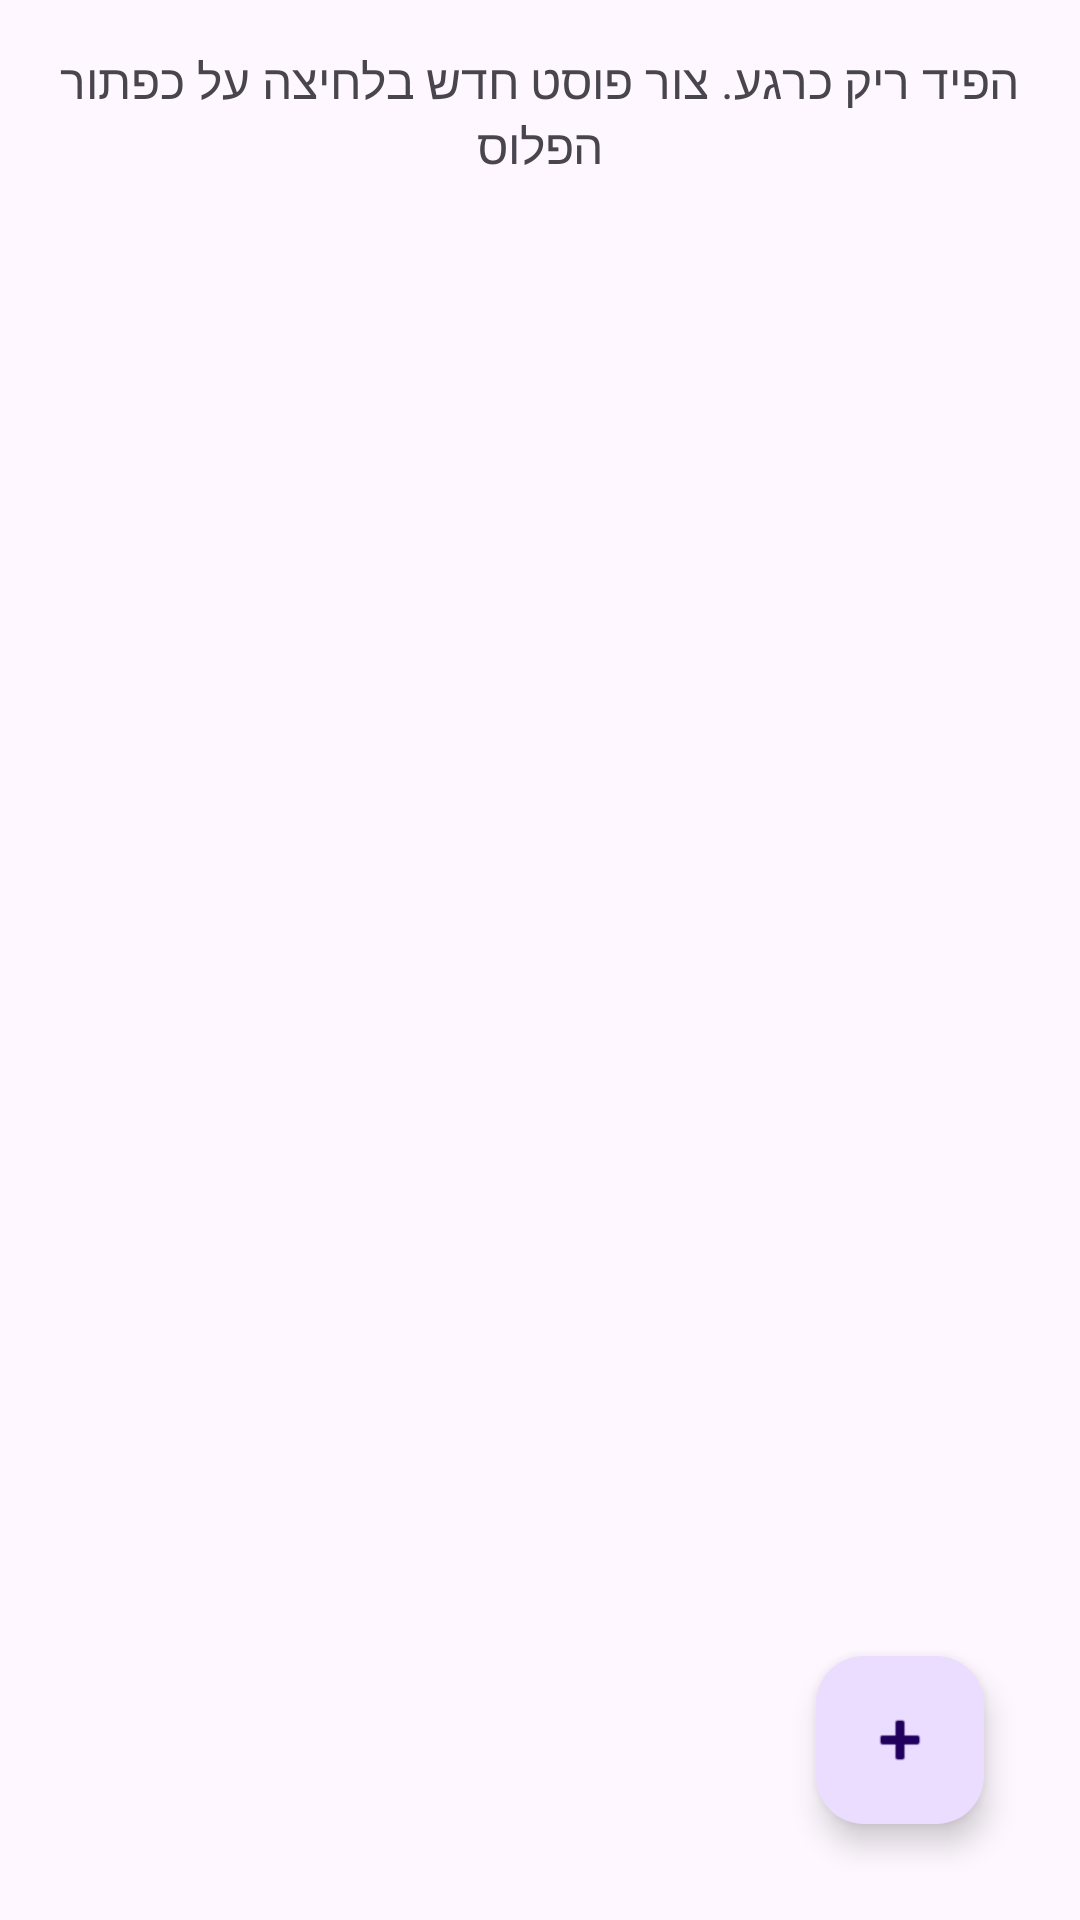

Locate icon controls on the screen. Image size 1080*1920, boxes as bbox(x1, y1, x2, y2).
פוסט חדש: bbox(816, 1656, 984, 1824)
